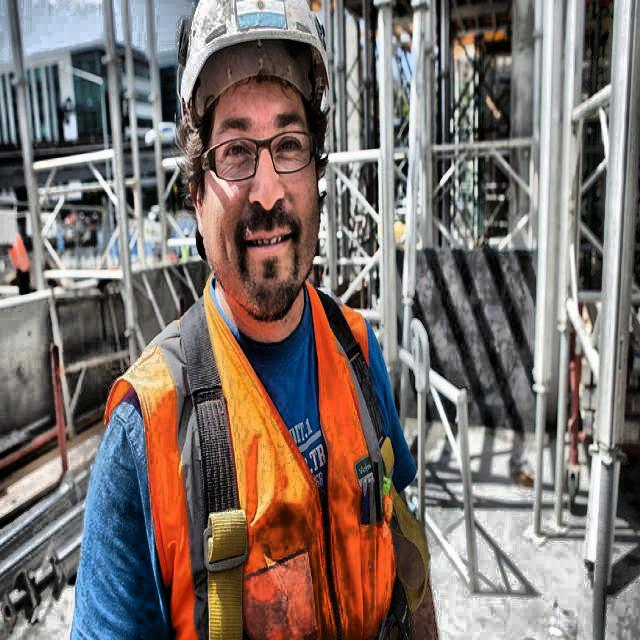person: (59, 1, 428, 640)
